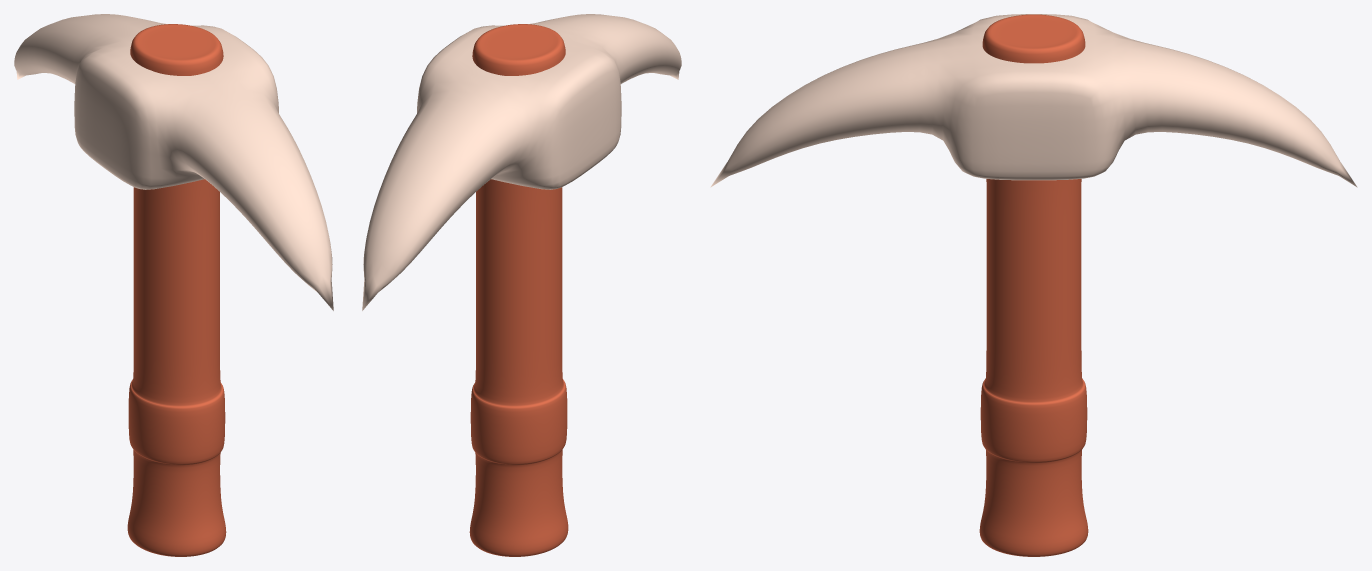
The model's file is pickaxe.glb.
3 renders of one model, left to right at view 1: azimuth 30°, elevation 25°; view 2: azimuth 150°, elevation 25°; view 3: azimuth 270°, elevation 25°, orthographic. The views are drawn at different scales.
Parts seen in each view (by area): view 1: Cube, Cylinder; view 2: Cube, Cylinder; view 3: Cube, Cylinder.
Boxes of the visible parts, left/top/right/bottom form: Cube: left=14, top=14, right=333, bottom=310; Cylinder: left=127, top=24, right=226, bottom=556; Cube: left=362, top=14, right=681, bottom=310; Cylinder: left=469, top=24, right=568, bottom=556; Cube: left=710, top=14, right=1357, bottom=187; Cylinder: left=979, top=14, right=1088, bottom=556.
Bounding box in the file's own units: 0.5374 × 1.73 × 2.
